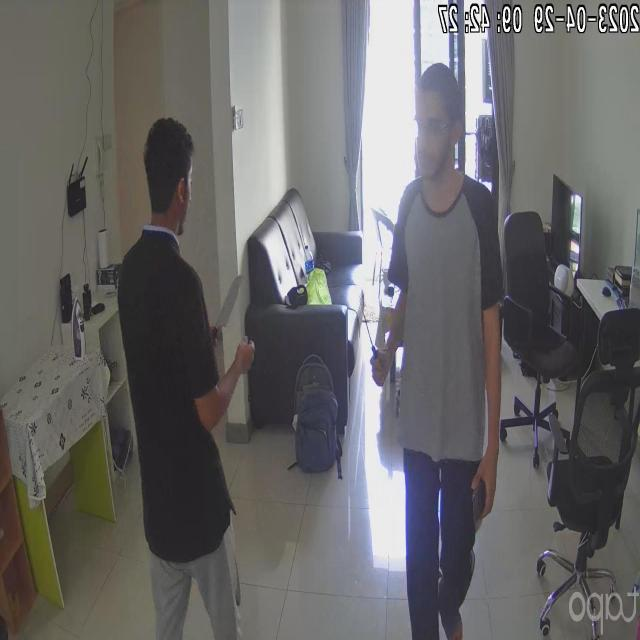Knife: (211, 253, 252, 340), (352, 313, 396, 379)
